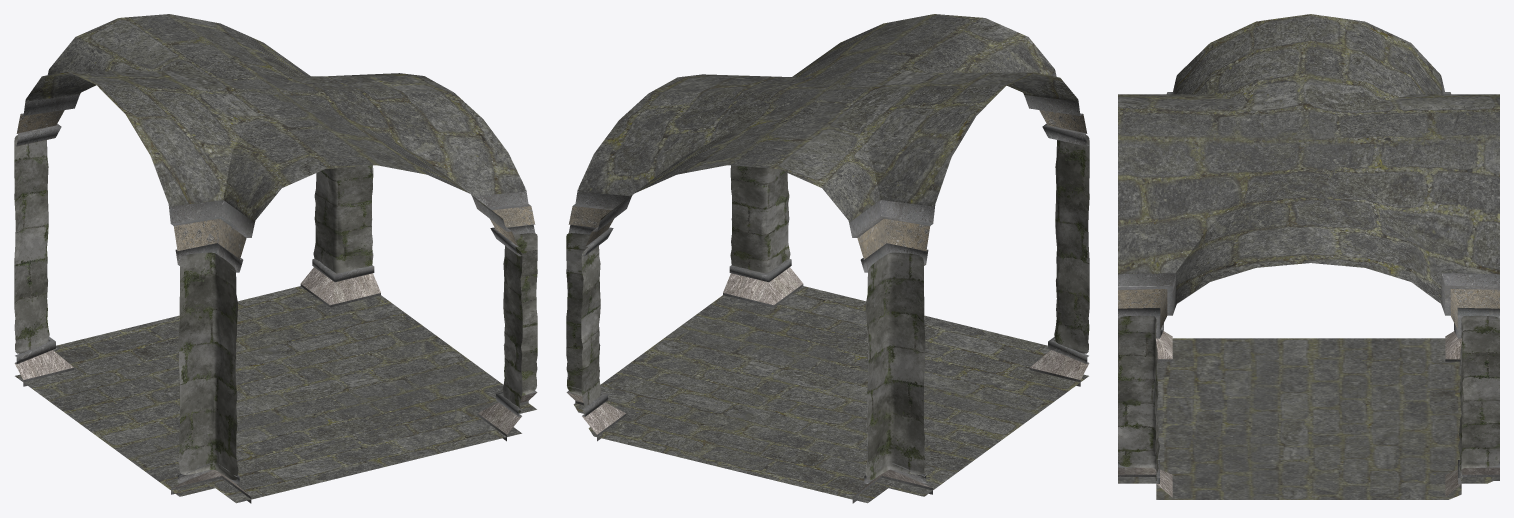
File: sloped_hallwasy.fbx
3 renders of one model, left to right at view 1: azimuth 30°, elevation 25°; view 2: azimuth 150°, elevation 25°; view 3: azimuth 270°, elevation 25°, orthographic. The views are drawn at different scales.
Visible parts, largest first — view 1: Plane.205; view 2: Plane.205; view 3: Plane.205.
Boxes of the visible parts, bbox=[...] form: Plane.205: bbox=[14, 14, 537, 503]; Plane.205: bbox=[566, 14, 1089, 503]; Plane.205: bbox=[1118, 14, 1499, 499].
Size of the model in its own units: 200 by 190 by 200.
